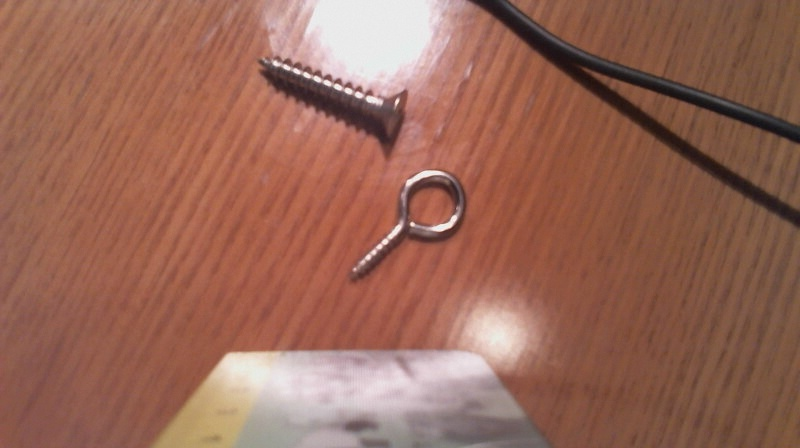O001: (340, 167, 468, 283)
S001: (256, 54, 411, 142)
